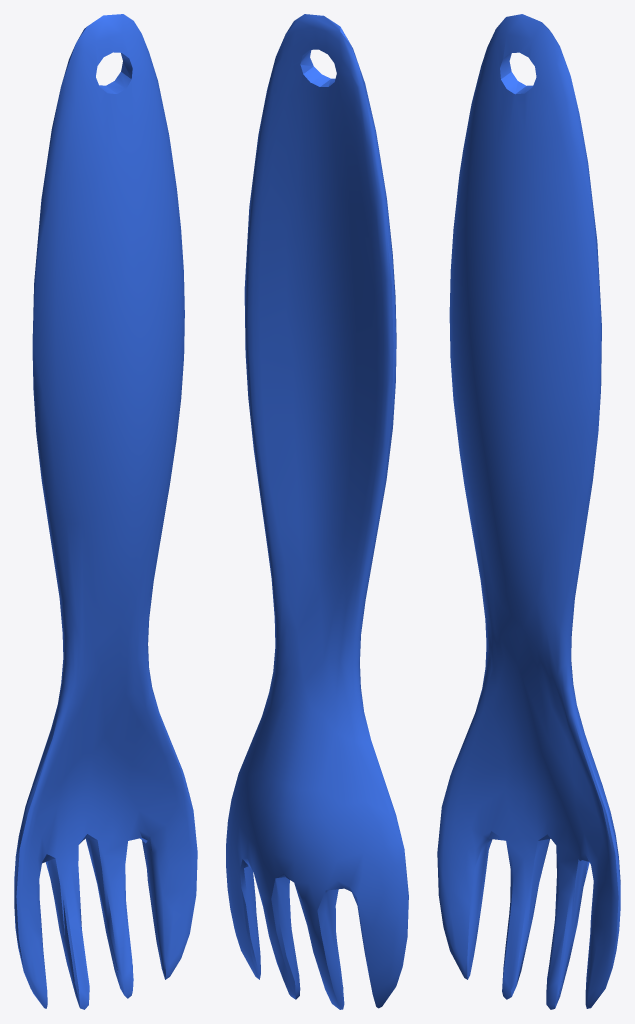
The model's file is deliklicatal.fbx.
3 views of the same model, side by side, from view 1: azimuth 30°, elevation 25°; view 2: azimuth 150°, elevation 25°; view 3: azimuth 330°, elevation 25° (orthographic).
Visible parts, largest first — view 1: Cube.112; view 2: Cube.112; view 3: Cube.112.
Boxes of the visible parts, bbox=[...] form: Cube.112: bbox=[14, 14, 197, 1009]; Cube.112: bbox=[226, 14, 408, 1009]; Cube.112: bbox=[437, 14, 620, 1009].
Size of the model in its own units: 199 by 115 by 1032.
